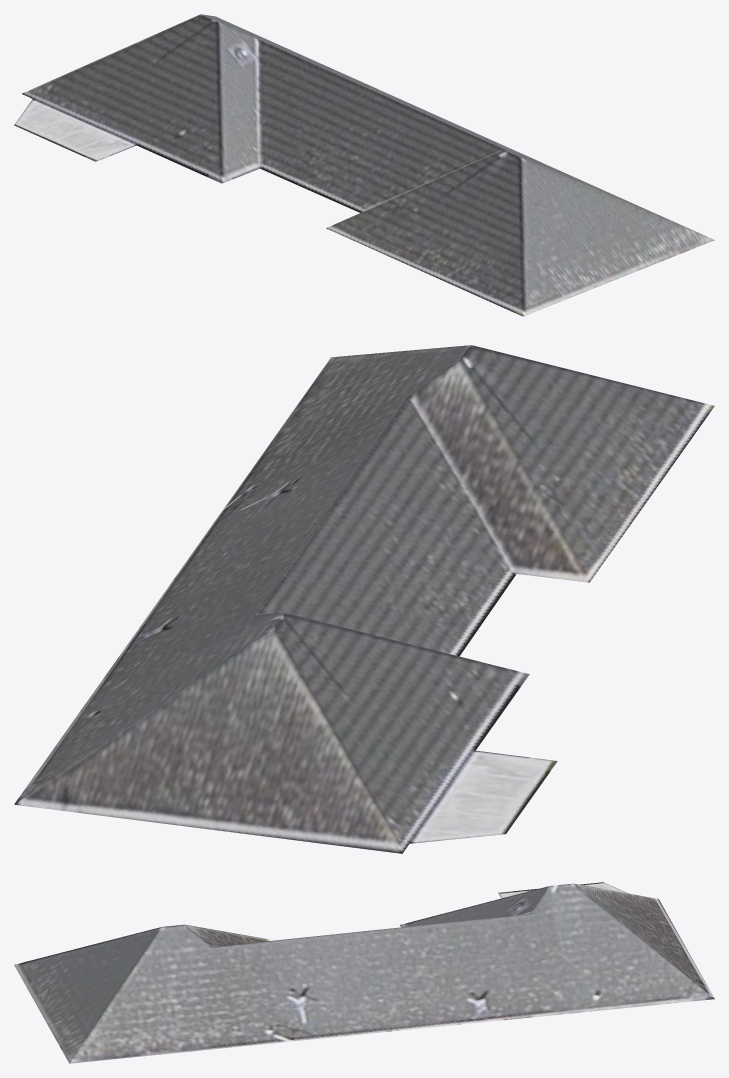
File: BK39_500_014028_0069_roof.obj
3 views of the same model, one above another, from view 1: azimuth 30°, elevation 25°; view 2: azimuth 150°, elevation 25°; view 3: azimuth 270°, elevation 25° (orthographic). The views are drawn at different scales.
Parts seen in each view (by area): view 1: BK39_500_014028_0069_roof; view 2: BK39_500_014028_0069_roof; view 3: BK39_500_014028_0069_roof.
Boxes of the visible parts, bbox=[...] form: BK39_500_014028_0069_roof: bbox=[14, 14, 714, 316]; BK39_500_014028_0069_roof: bbox=[14, 345, 714, 853]; BK39_500_014028_0069_roof: bbox=[14, 882, 714, 1063].
Size of the model in its own units: 367 by 70 by 598.
1 material, 1 textured.
